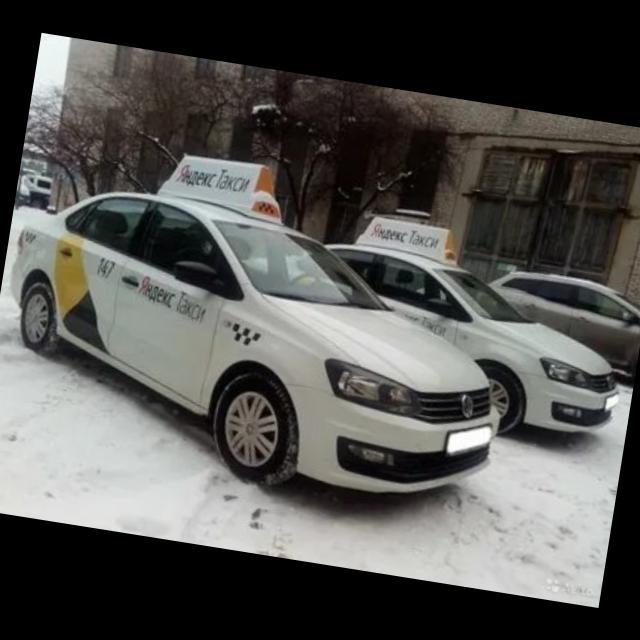taxi: (1, 124, 535, 520), (296, 196, 640, 451)
